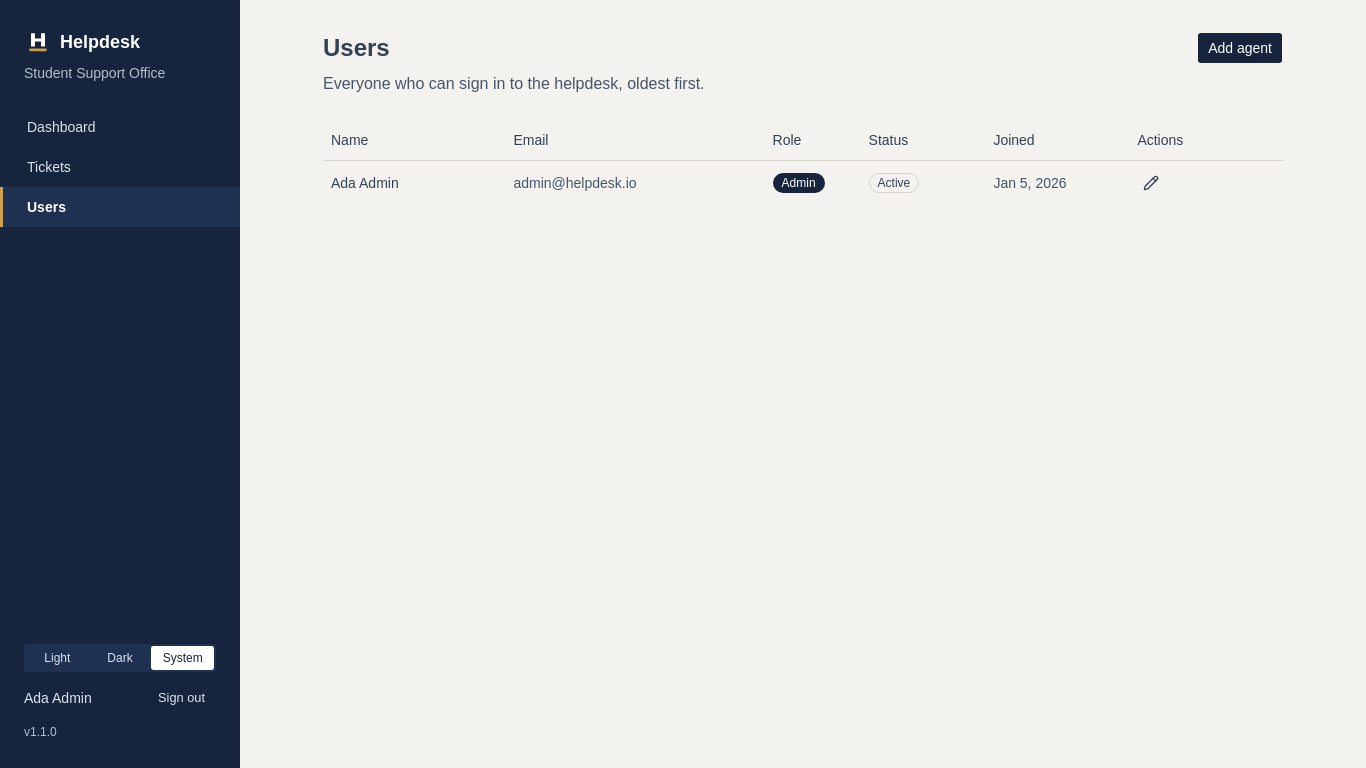
Test: a taken email is marked on the email field, and the dialog stays open
Click the button "Add agent": (1240, 48) [1197,32,1283,64]
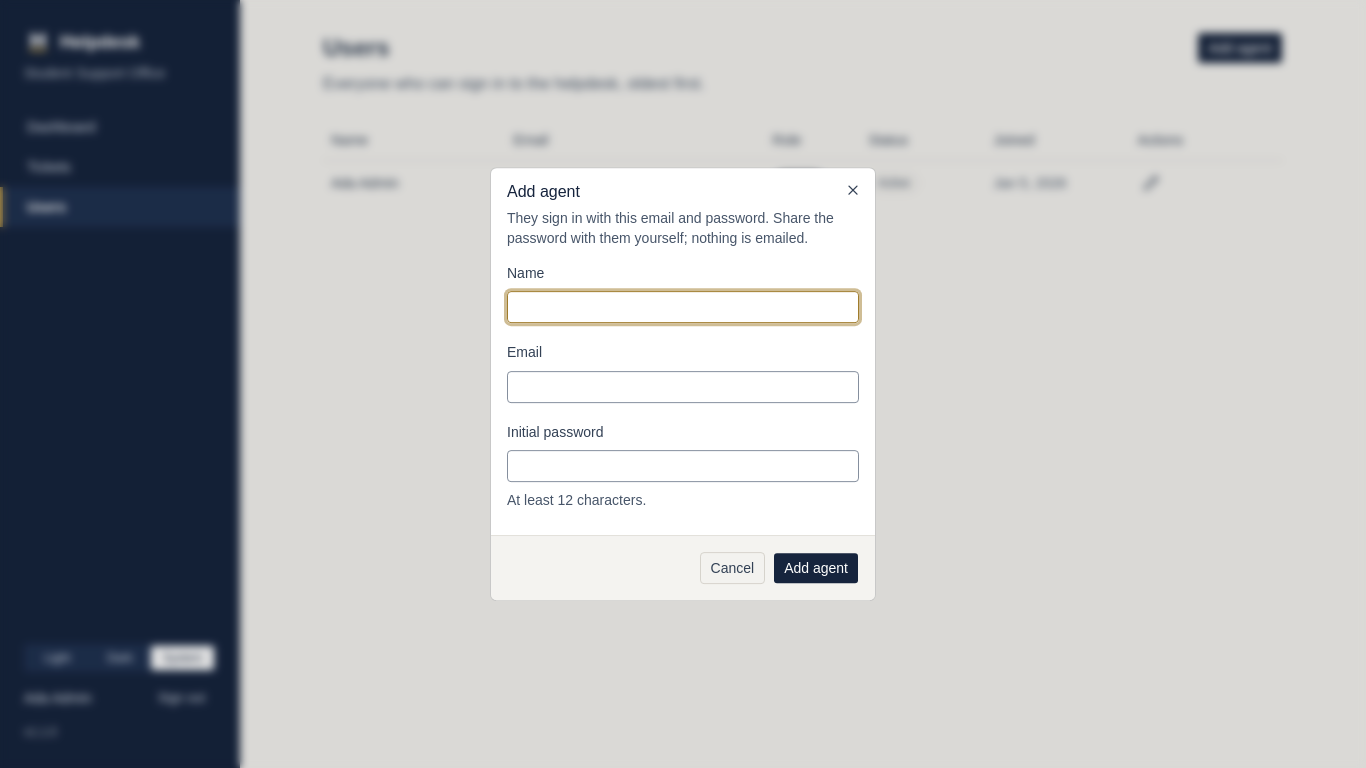
In the field labelled "Name": (683, 307) [507,291,859,323], type "Nia New"
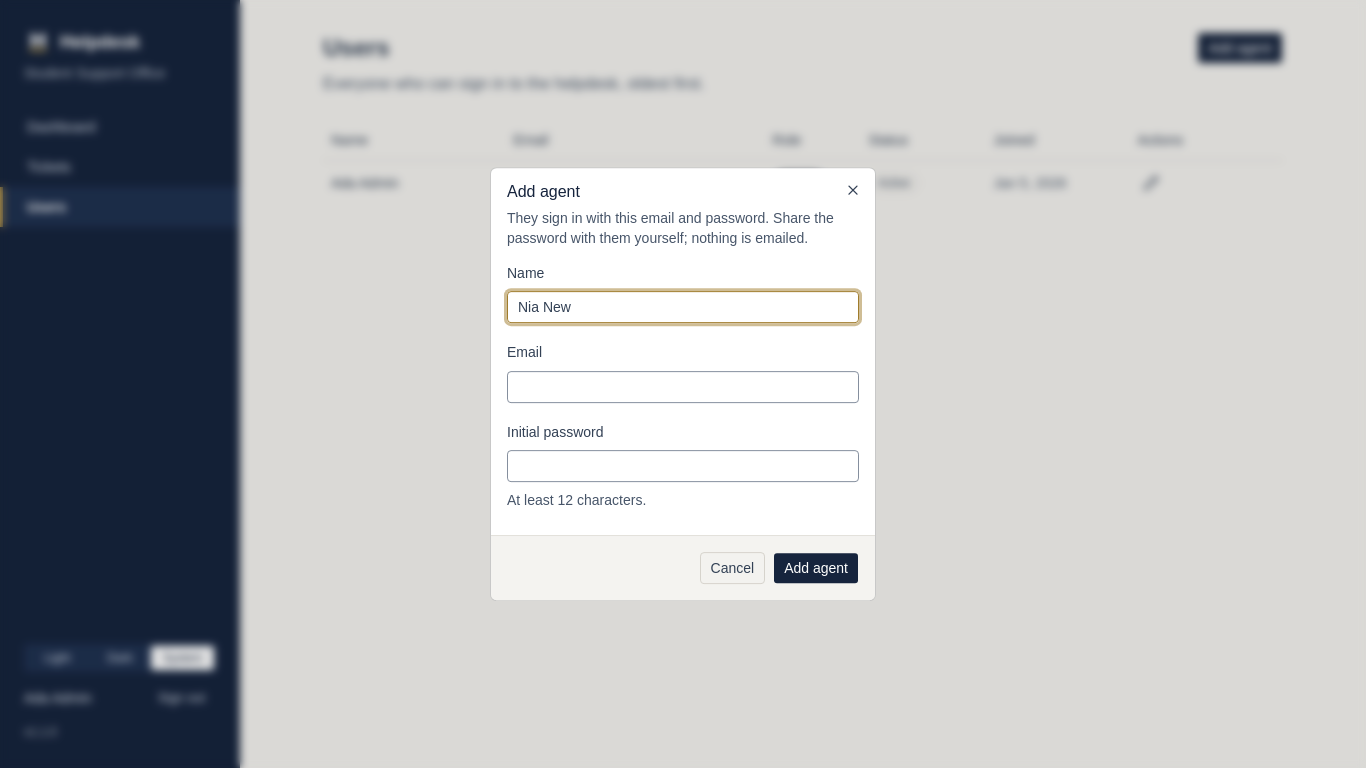
In the field labelled "Email": (683, 387) [507,371,859,403], type "nia@helpdesk.io"
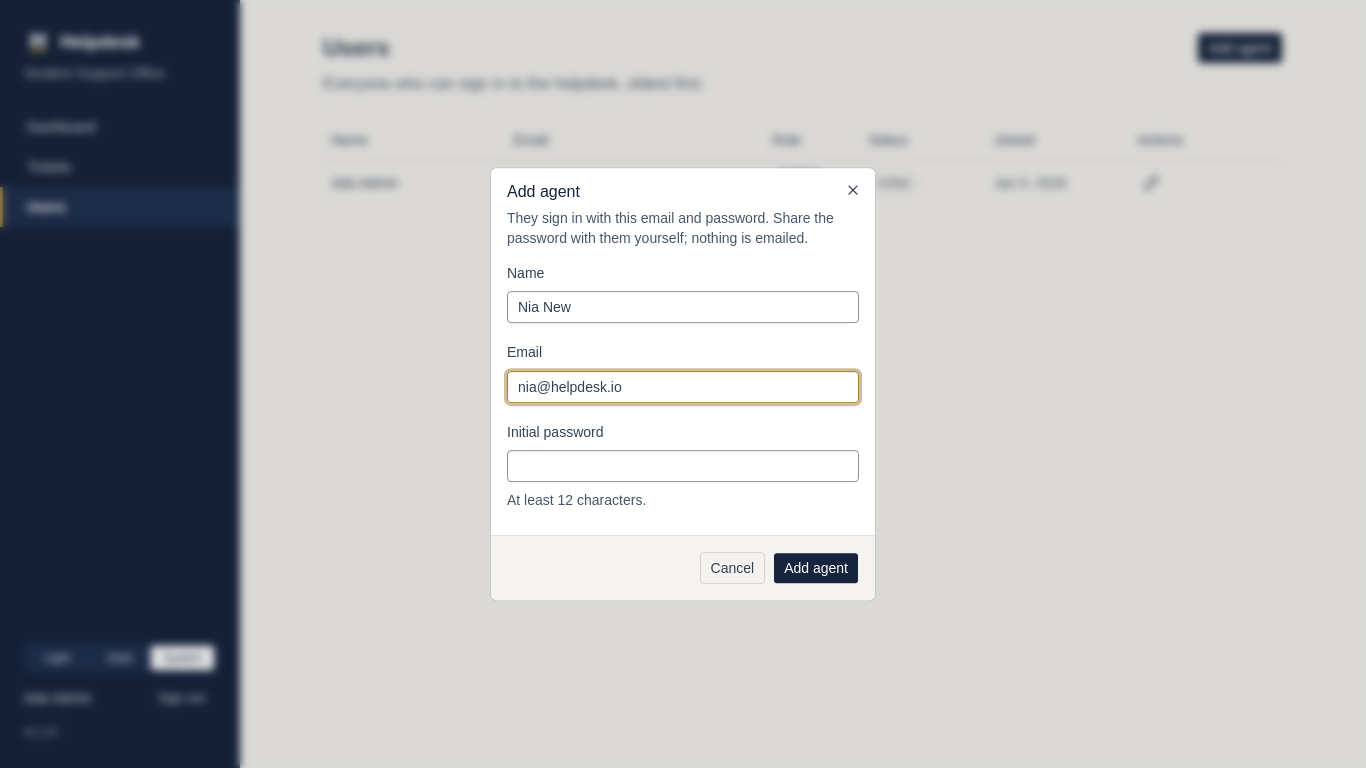
In the password field labelled "Initial password": (683, 466) [507,450,859,482], type "a-long-enough-password"
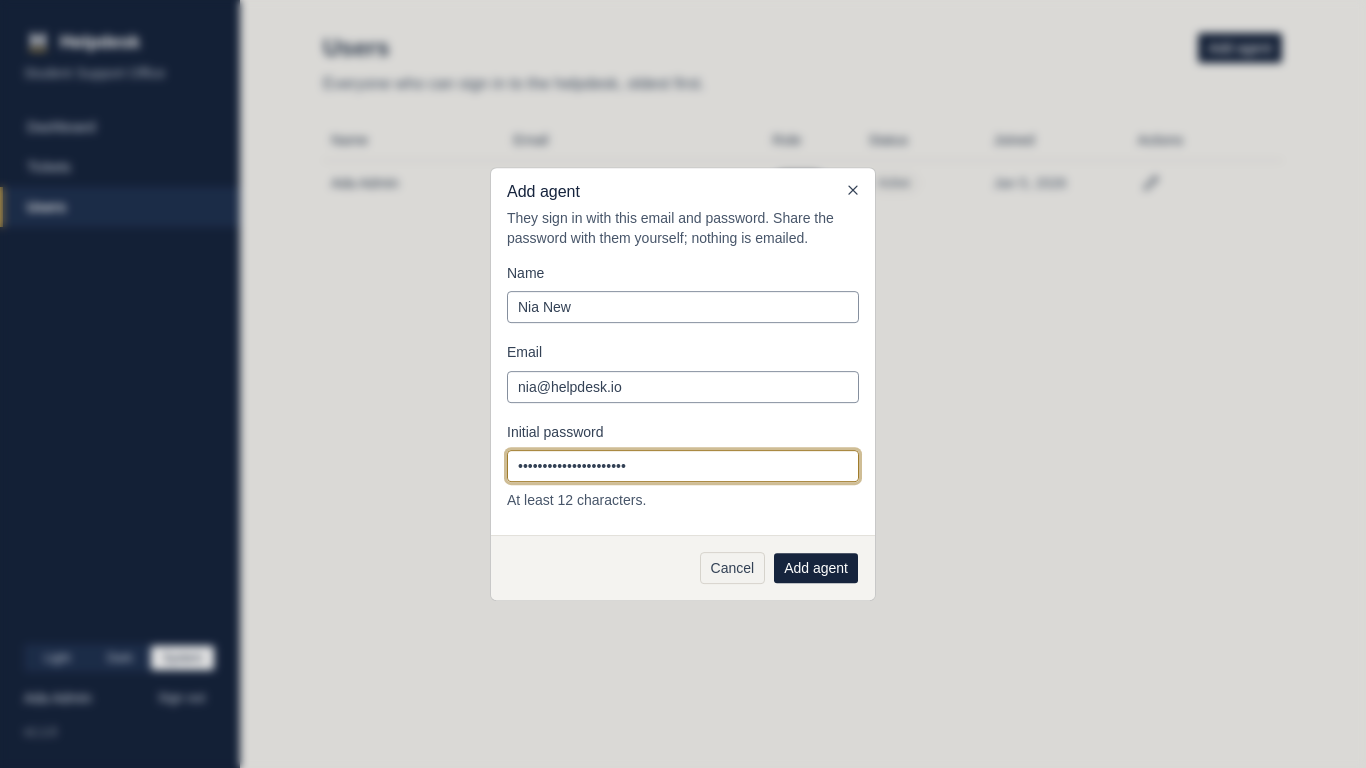
Click the button "Add agent": (816, 568) [773,552,859,584]
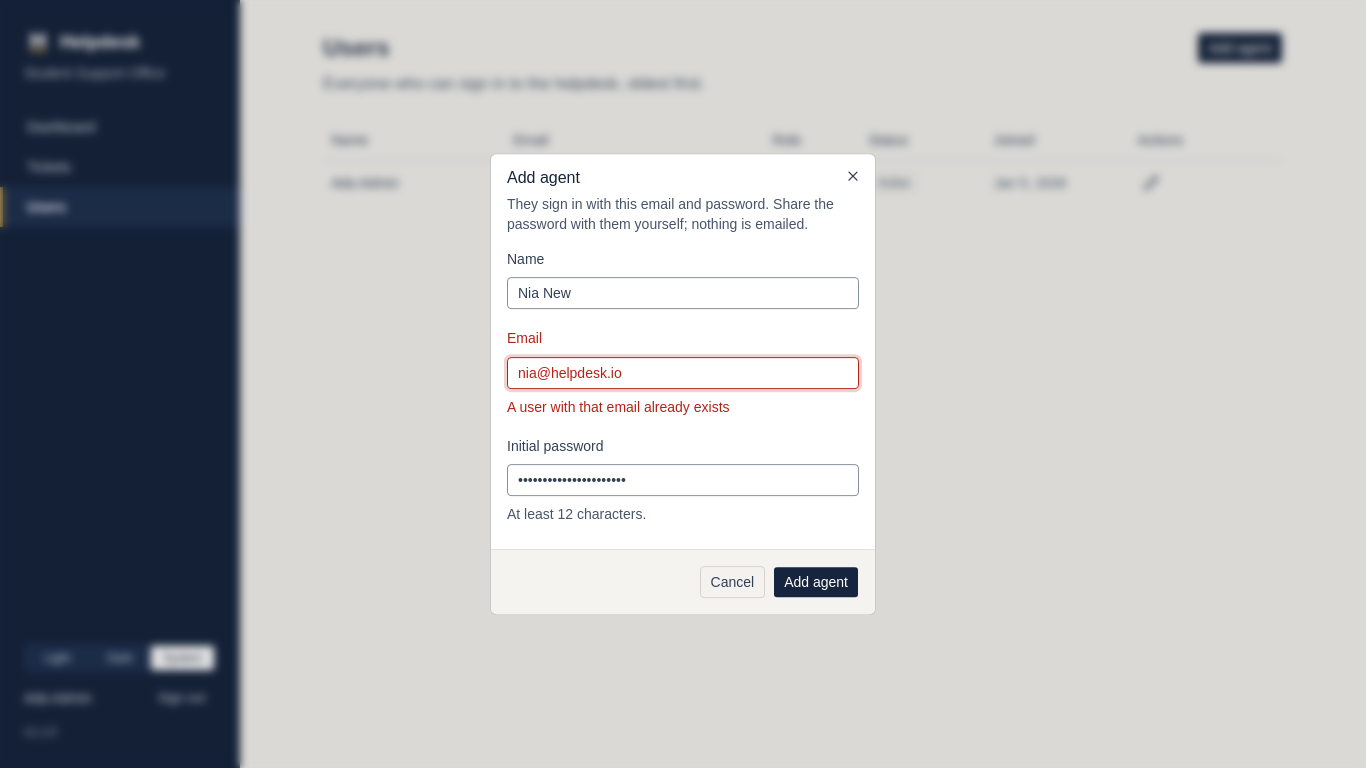
Result: the number of messages is 1 at [507,399,730,415]
